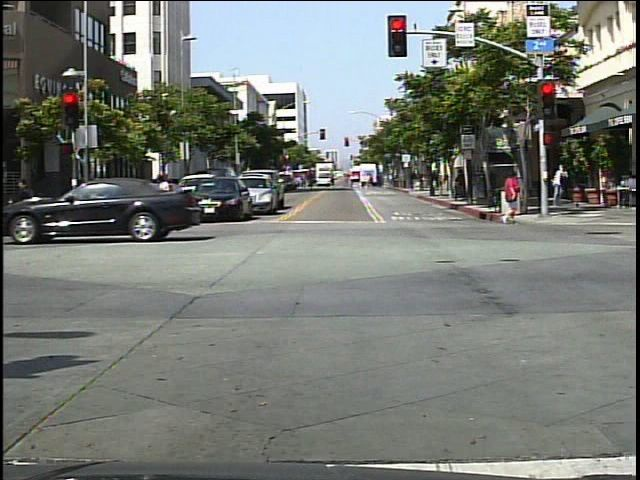person: (10, 170, 48, 237), (149, 172, 182, 235), (496, 168, 527, 230), (549, 160, 571, 211)
